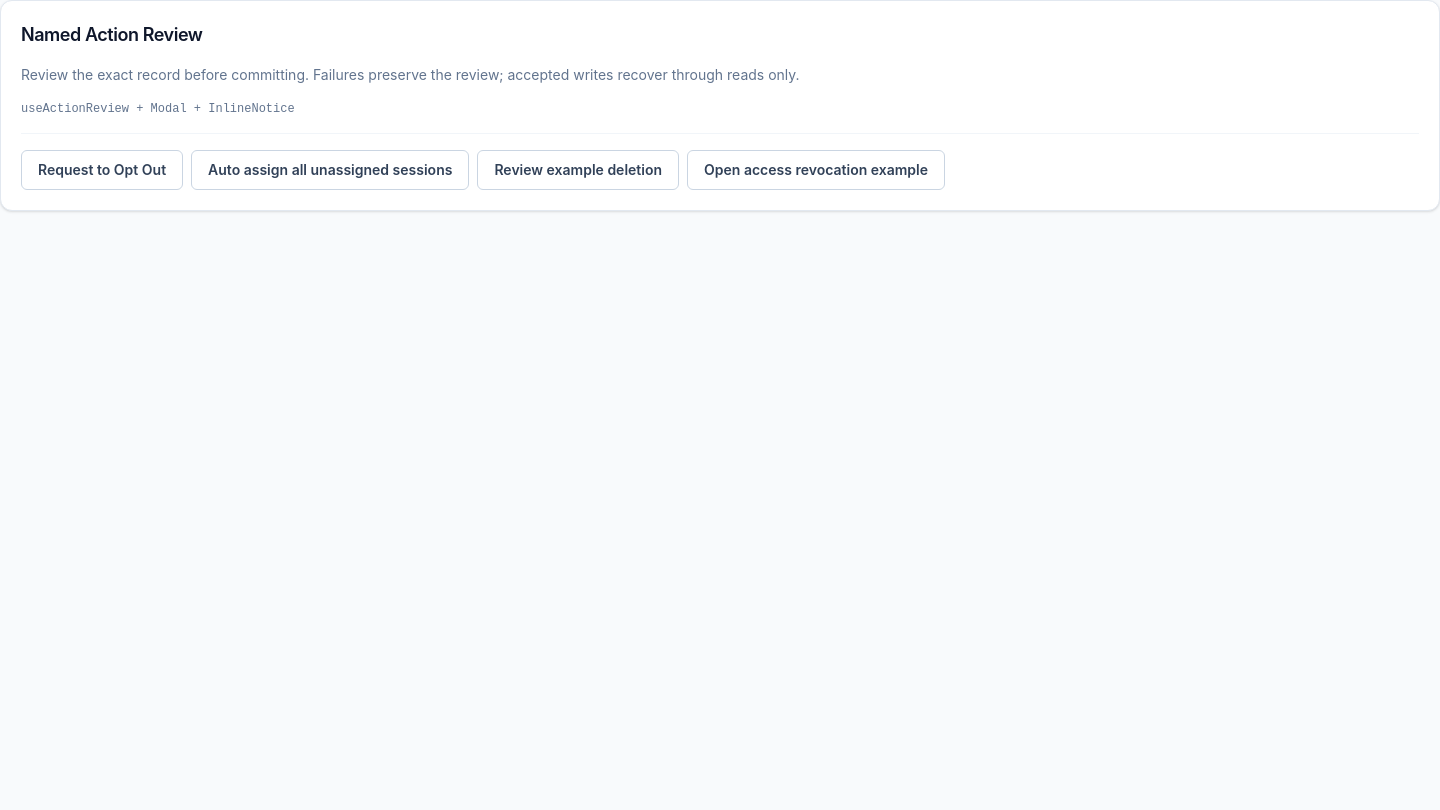
Test: shows a request receipt without claiming the eventual change was applied
The image size is (1440, 810).
Click the button "Request to Opt Out". click: click(102, 170)
box: [21,150,183,190]
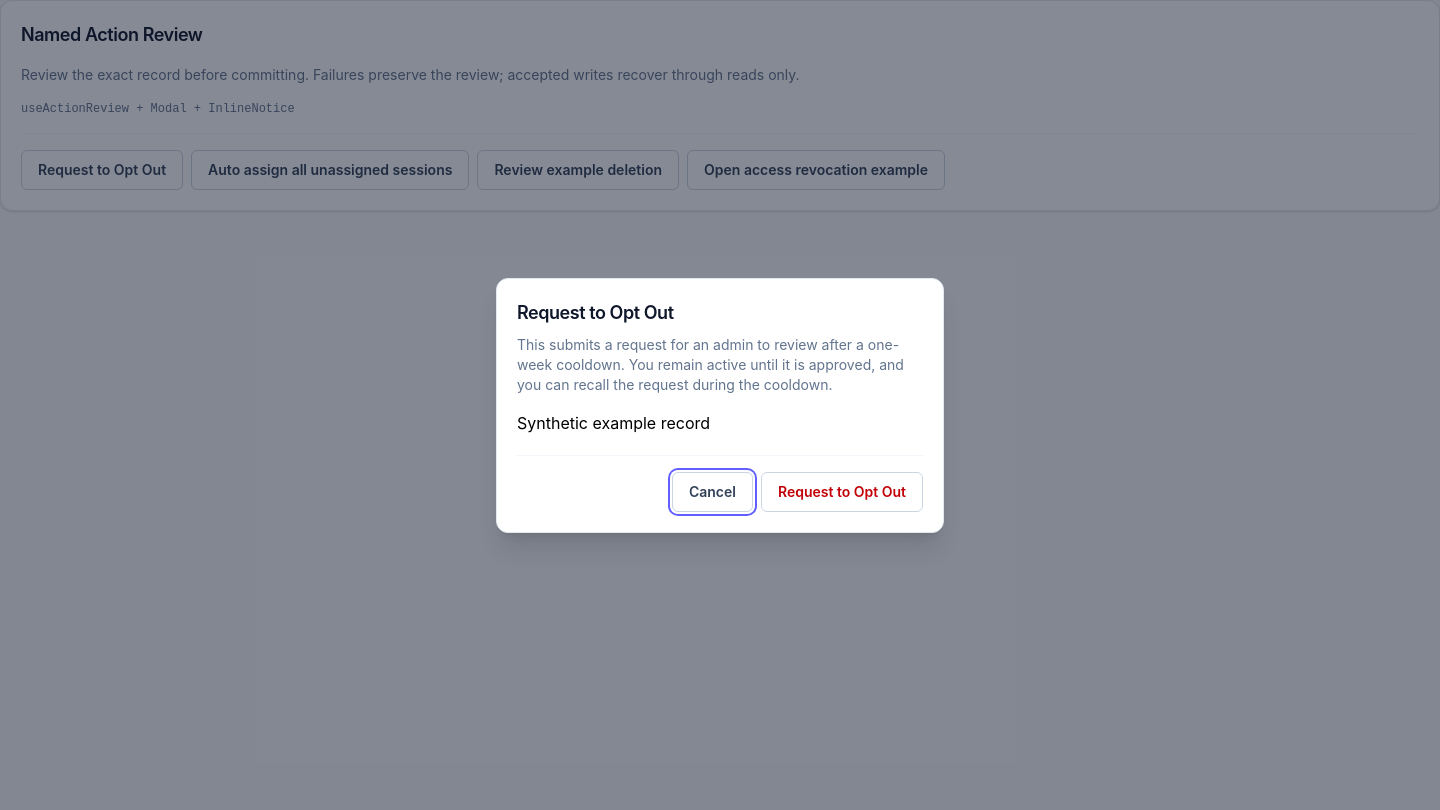
Click the button "Request to Opt Out". click: click(842, 492)
box: [761,472,923,512]
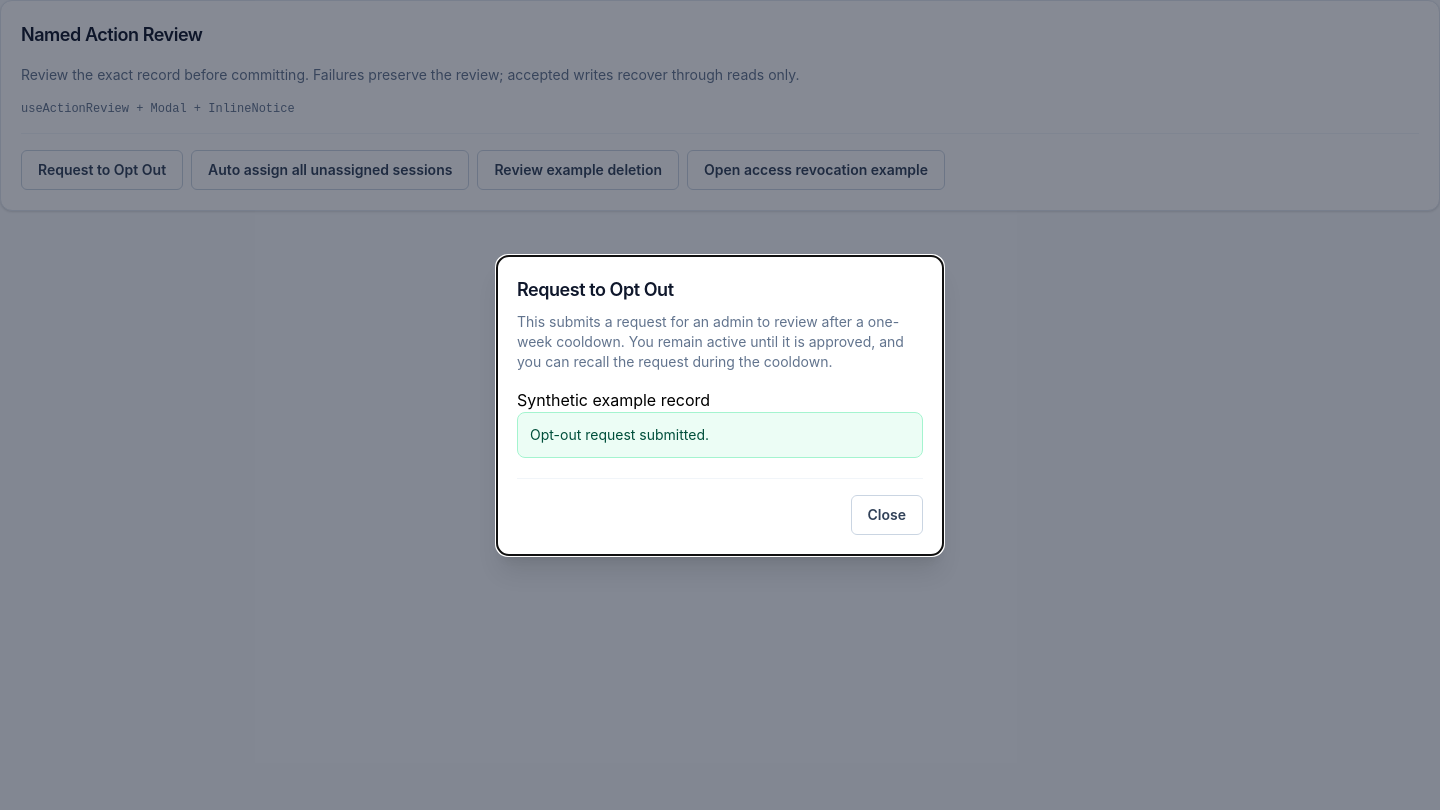
Expected: the text "Opt-out request submitted." is shown, [530,426,709,442]
